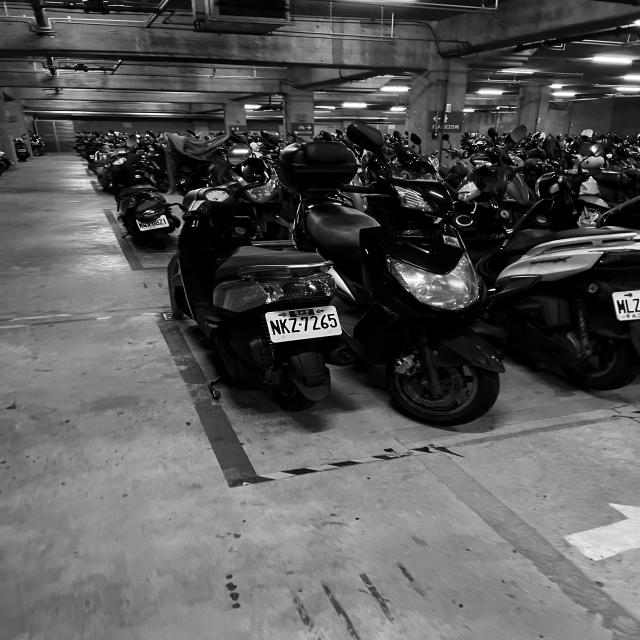-: (298, 322, 302, 326)
1: (162, 218, 167, 225)
2: (310, 314, 322, 331), (158, 218, 164, 225)
5: (326, 313, 338, 328)
6: (320, 314, 330, 329)
7: (300, 316, 310, 332)
K: (279, 318, 291, 334)
L: (625, 299, 635, 313)
M: (616, 299, 627, 314)
N: (270, 319, 282, 337)
Z: (288, 317, 301, 333)
plate: (268, 306, 341, 342)
